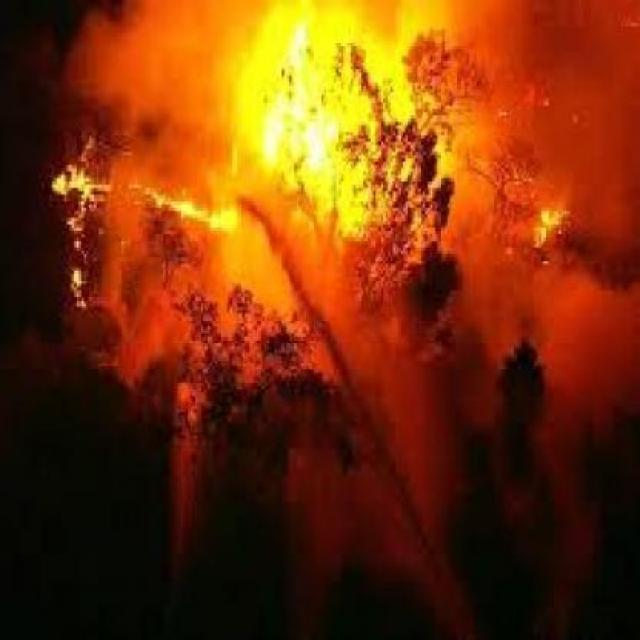Fire: (159, 0, 518, 324)
